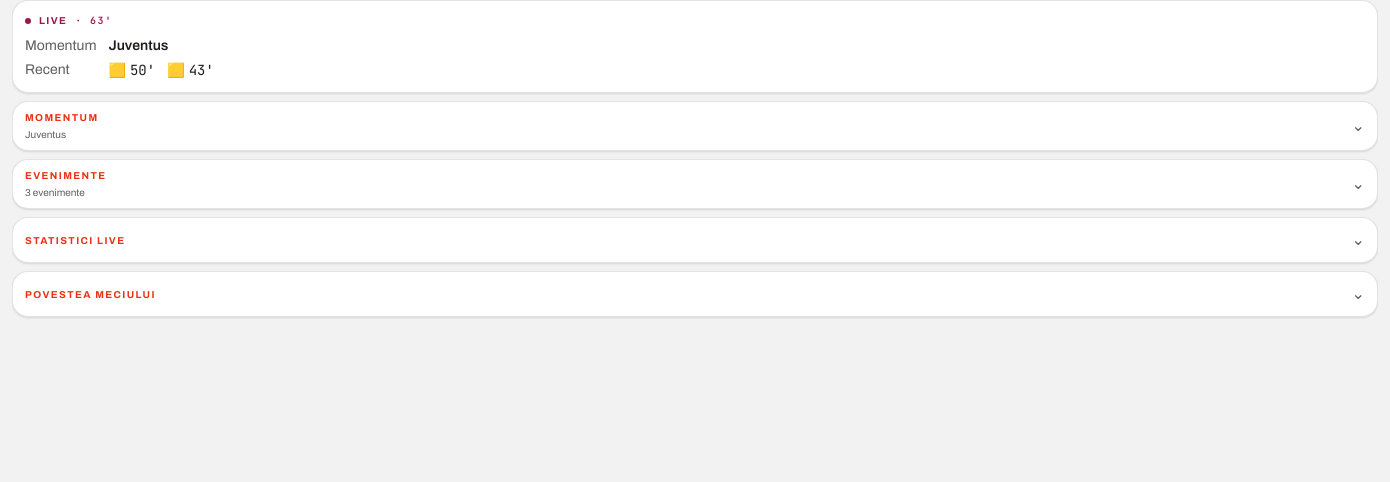
Test: B · live stats — no value without label › every rendered stat row carries a catalogue label; yellow and red cards are named
Click the button "Statistici live ⌄": (75, 240) [13,218,1377,262]
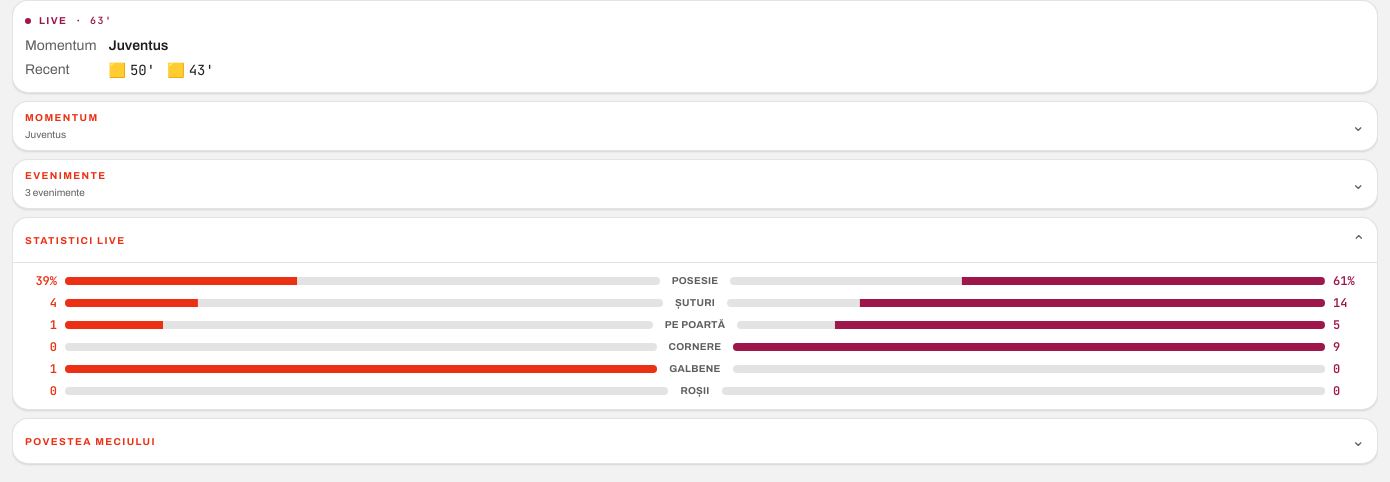
Check: the element showing "1 Galbene 0" is shown, box [25,361,1365,377]
